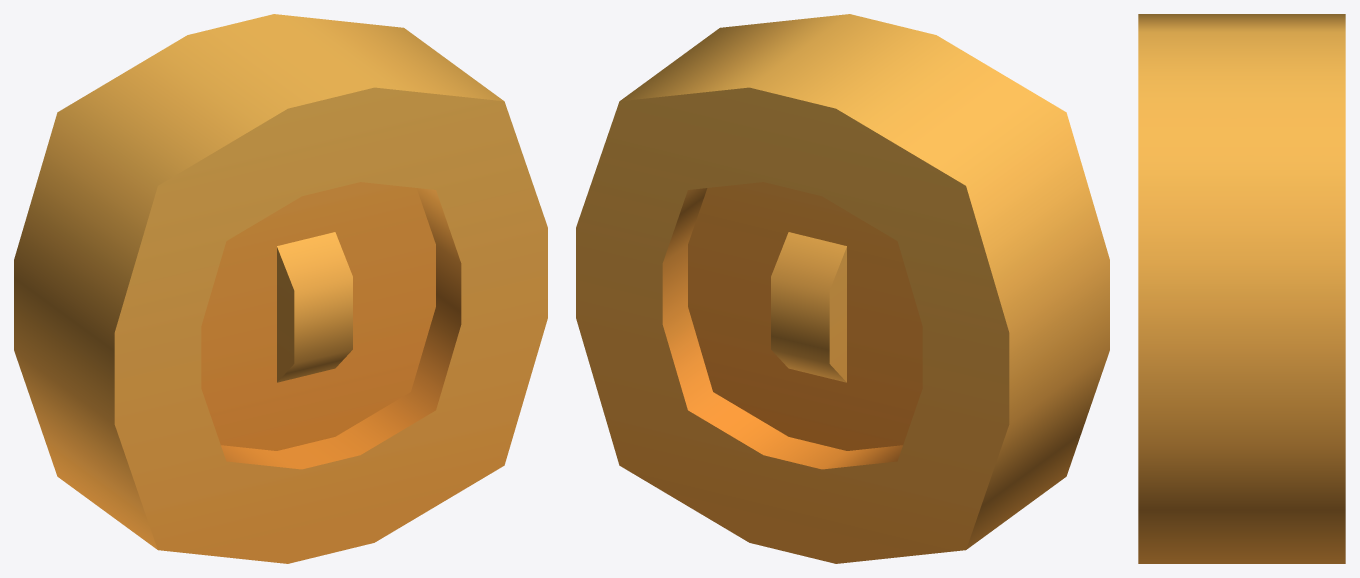
File: coin.glb
3 renders of one model, left to right at view 1: azimuth 30°, elevation 25°; view 2: azimuth 150°, elevation 25°; view 3: azimuth 270°, elevation 25°, orthographic. The views are drawn at different scales.
Visible parts, largest first — view 1: coin; view 2: coin; view 3: coin.
Part boxes in pixels (x1=…): coin: x1=14, y1=14, x2=547, y2=563; coin: x1=576, y1=14, x2=1109, y2=563; coin: x1=1138, y1=14, x2=1345, y2=563.
Bounding box in the file's own units: 0.32 × 0.3213 × 0.1285.
1 material, 1 textured.
